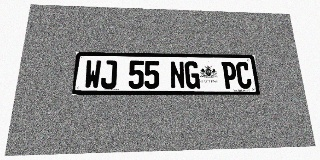5: (144, 61, 160, 89), (129, 60, 144, 89)
C: (235, 62, 252, 89)
G: (184, 61, 200, 89)
J: (100, 60, 117, 89)
N: (170, 61, 185, 89)
P: (221, 62, 238, 89)
W: (84, 60, 101, 89)
